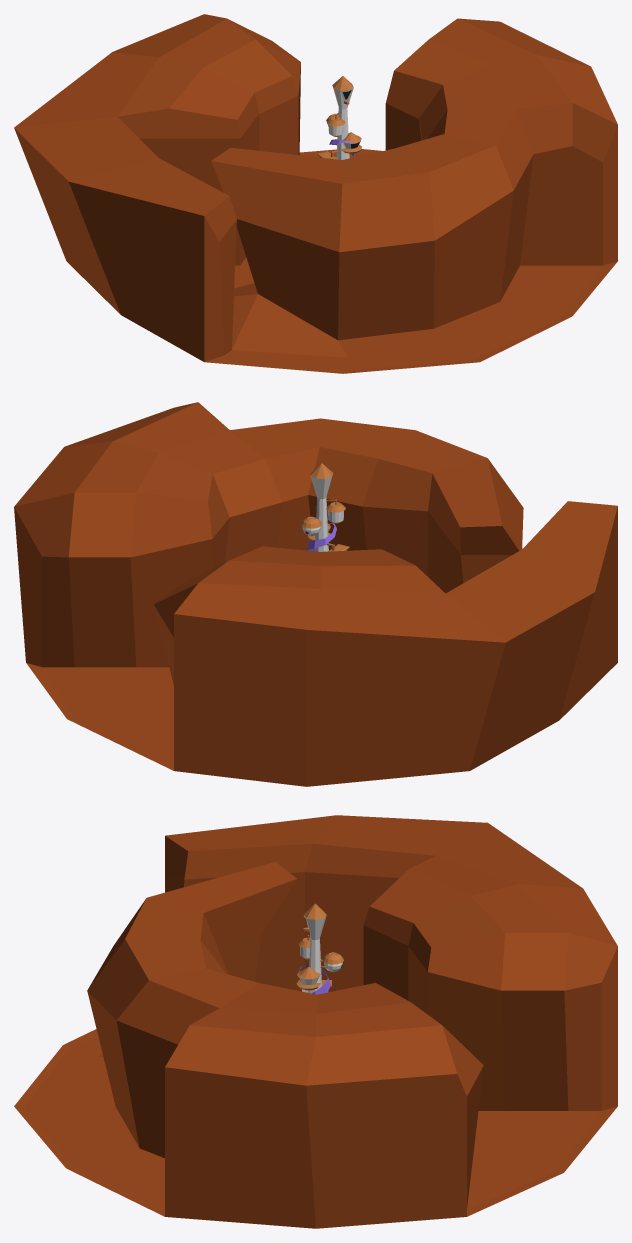
Rendered from Canyon Base.fbx.
The picture shows the model from 3 angles, top to bottom: view 1: azimuth 30°, elevation 25°; view 2: azimuth 150°, elevation 25°; view 3: azimuth 270°, elevation 25°; orthographic projection. The views are drawn at different scales.
Parts seen in each view (by area): view 1: Central Canyon, Desert Base; view 2: Central Canyon, Desert Base; view 3: Central Canyon, Desert Base.
Part boxes in pixels (bbox=[...]): Central Canyon: bbox=[14, 14, 617, 373]; Desert Base: bbox=[317, 76, 361, 159]; Central Canyon: bbox=[14, 402, 617, 786]; Desert Base: bbox=[301, 463, 349, 551]; Central Canyon: bbox=[14, 815, 617, 1228]; Desert Base: bbox=[296, 903, 343, 994].
Bounding box in the file's own units: 6851 × 2402 × 6435.
